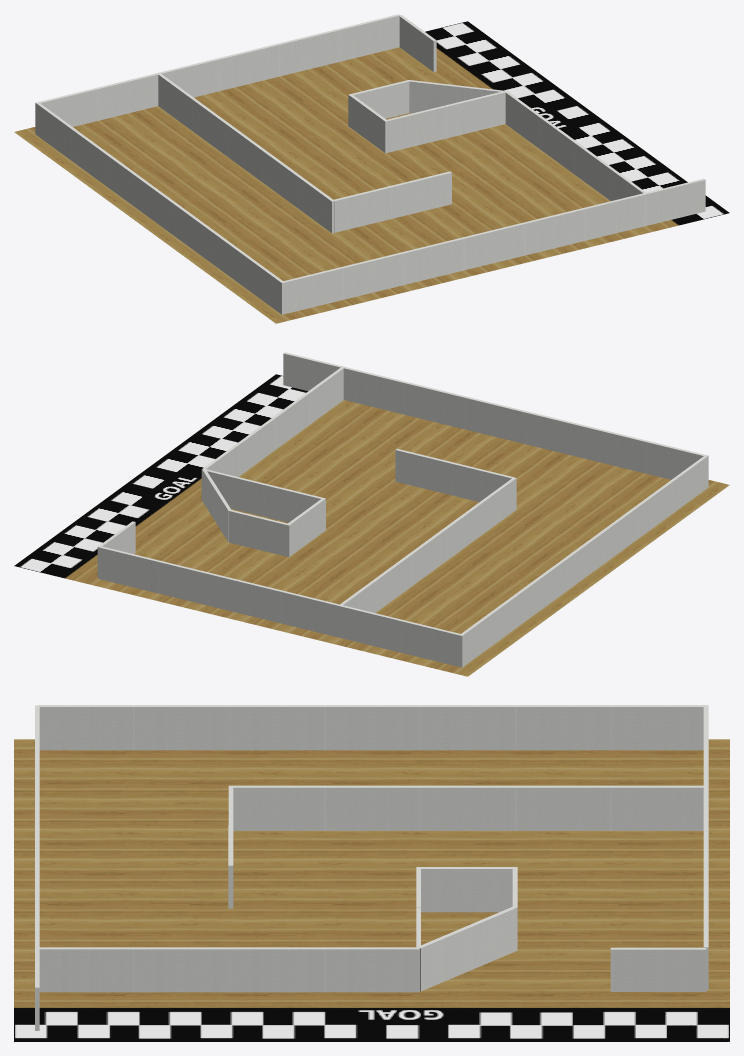
Rendered from mazeroom.dae.
3 views of the same model, one above another, from view 1: azimuth 30°, elevation 25°; view 2: azimuth 150°, elevation 25°; view 3: azimuth 270°, elevation 25° (orthographic). The views are drawn at different scales.
Visible parts, largest first — view 1: Plane, Cube_006, Cube_003, Cube_009, Cube_017, Cube_040, Cube_022, Cube_021, Cube_001, Cube_007, Cube_008, Cube_004 (+26 smaller); view 2: Plane, Cube_041, Cube_016, Cube_008, Cube_003, Cube_006, Cube_007, Cube_001, Cube_020, Cube_017, Cube_022, Cube_021 (+26 smaller); view 3: Plane, Cube_042, Cube_011, Cube_002, Cube_024, Cube_031, Cube_010, Cube_012, Cube_014, Cube_028, Cube_025, Cube_032 (+8 smaller).
Boxes of the visible parts, bbox=[...] form: Plane: bbox=[14, 21, 729, 323]; Cube_006: bbox=[462, 223, 524, 270]; Cube_003: bbox=[583, 193, 645, 240]; Cube_009: bbox=[281, 267, 342, 314]; Cube_017: bbox=[96, 73, 158, 120]; Cube_040: bbox=[384, 106, 445, 153]; Cube_022: bbox=[217, 43, 279, 91]; Cube_021: bbox=[278, 29, 339, 76]; Cube_001: bbox=[523, 208, 584, 255]; Cube_007: bbox=[402, 237, 463, 285]; Cube_008: bbox=[341, 252, 402, 299]; Cube_004: bbox=[644, 178, 705, 225]; Plane: bbox=[14, 374, 729, 676]; Cube_041: bbox=[228, 509, 290, 556]; Cube_016: bbox=[401, 620, 463, 667]; Cube_008: bbox=[585, 426, 647, 473]; Cube_003: bbox=[343, 367, 405, 414]; Cube_006: bbox=[464, 396, 526, 443]; Cube_007: bbox=[525, 411, 586, 458]; Cube_001: bbox=[404, 382, 466, 429]; Cube_020: bbox=[99, 546, 160, 593]; Cube_017: bbox=[341, 605, 402, 652]; Cube_022: bbox=[220, 576, 281, 623]; Cube_021: bbox=[159, 561, 221, 608]; Plane: bbox=[14, 739, 729, 1041]; Cube_042: bbox=[420, 907, 517, 991]; Cube_011: bbox=[228, 705, 324, 750]; Cube_002: bbox=[419, 705, 515, 750]; Cube_024: bbox=[228, 947, 324, 992]; Cube_031: bbox=[419, 785, 515, 830]; Cube_010: bbox=[324, 705, 419, 750]; Cube_012: bbox=[133, 705, 228, 750]; Cube_014: bbox=[515, 705, 610, 750]; Cube_028: bbox=[133, 947, 228, 992]; Cube_025: bbox=[324, 785, 419, 830]; Cube_032: bbox=[515, 785, 610, 830].
Size of the model in its own units: 3 by 3 by 0.2043.
Materials: 3 (3 with a texture image).
